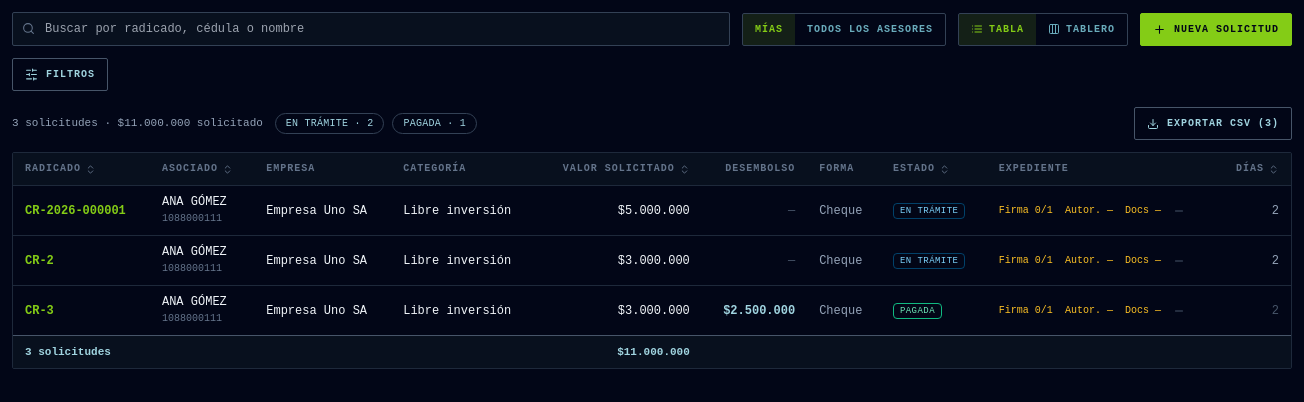
Lista de créditos — filtros › el alcance es un selector Mías / Todos los asesores (no una casilla) y pide todas=1
Expected: the link "CR-2026-000001" is shown, [25,204,126,218]
Click the button "TODOS LOS ASESORES".
click(870, 29)  # box [795,14,945,44]
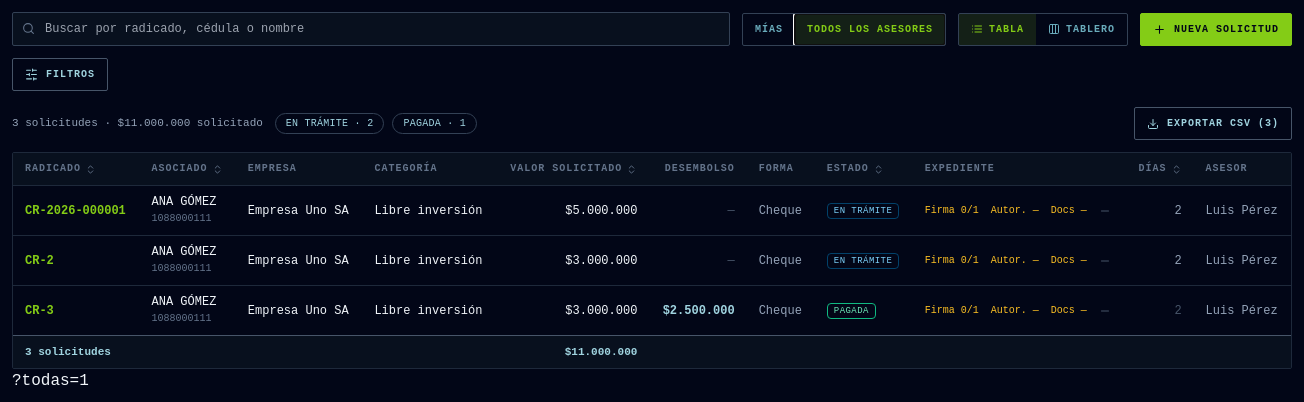
Expected: the column heading "ASESOR" is shown, [1194,153,1291,186]
